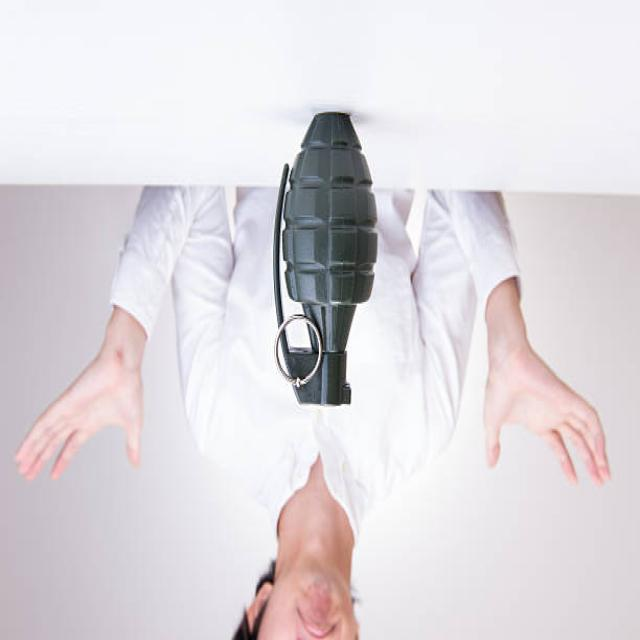grenade: (268, 106, 386, 417)
